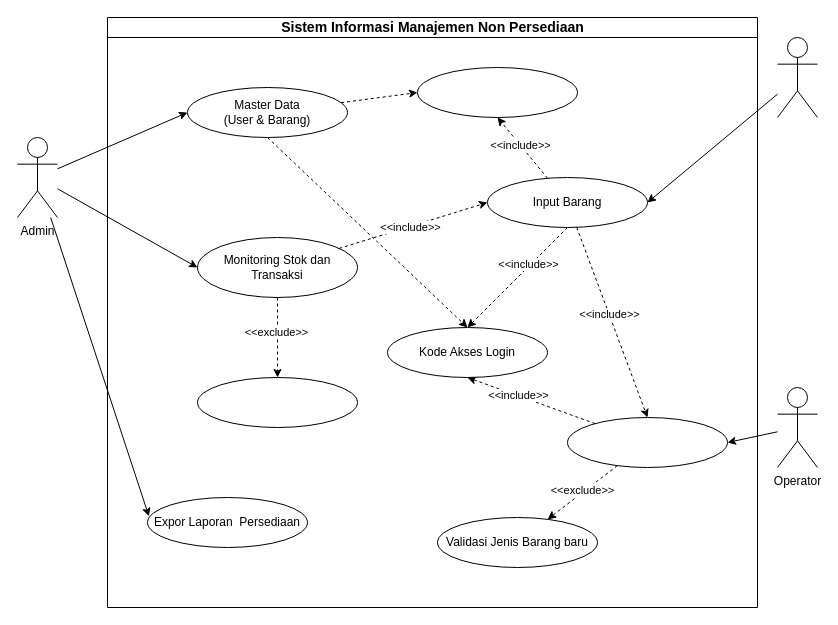
The diagram is 838 pixels wide and 625 high, and some of its shapes have lost their labels. Here are the shapes that lost their labels. From the top down, the centre of each, then its label:
[497,92]: Data Barang
[797,77]: User
[277,402]: Cetak Laporan Transaksi
[647,442]: Validasi Inputan
